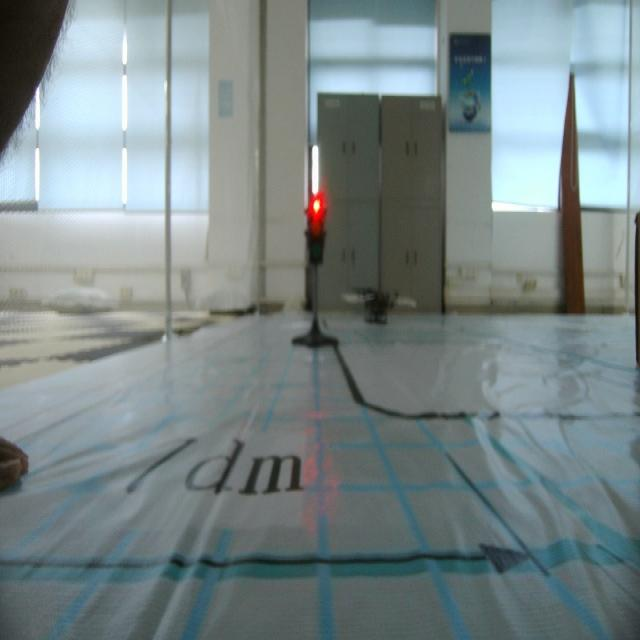red: (300, 190, 330, 270)
